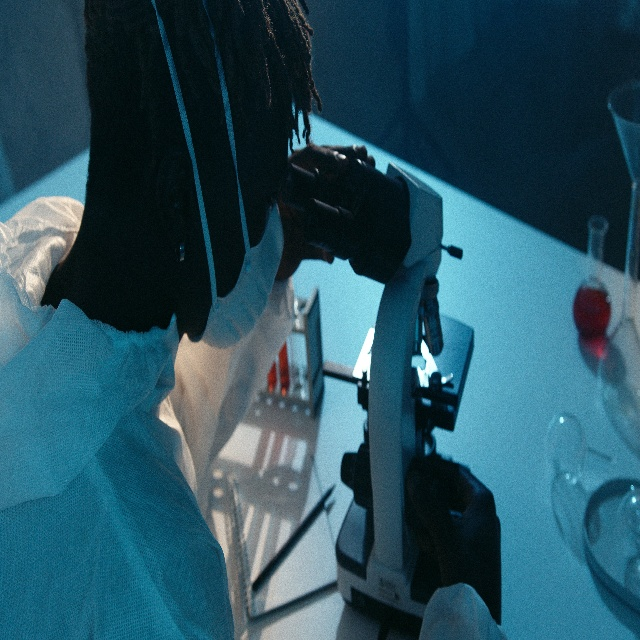Mascara: (192, 190, 287, 341)
Sin_guantes: (278, 145, 375, 282), (408, 454, 497, 595)
